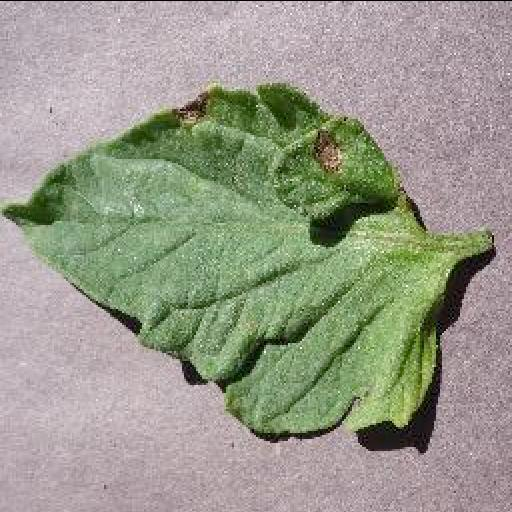disease_tomato: (4, 81, 446, 438)
